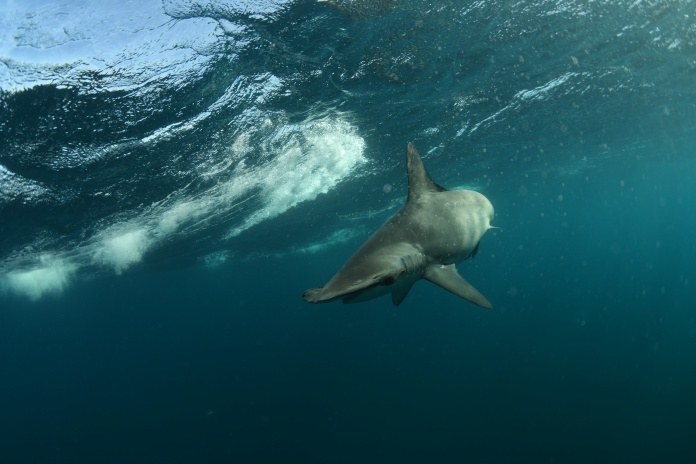Hammer: (244, 135, 518, 330)
